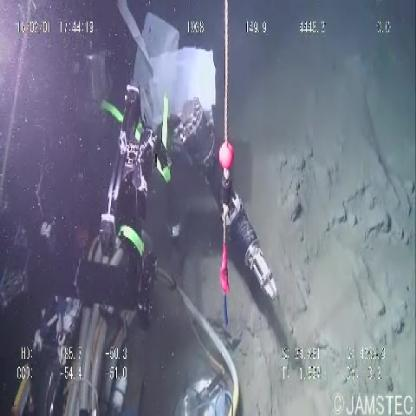Rov: (1, 1, 279, 412)
